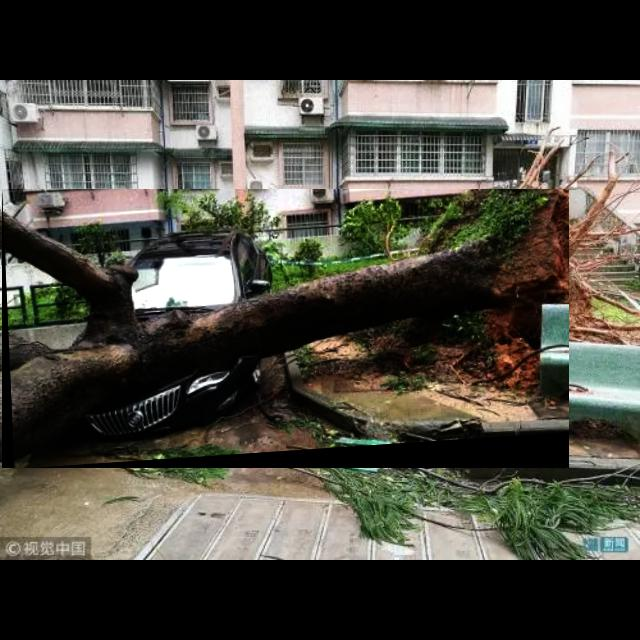Fallen Tree: (2, 189, 570, 469)
